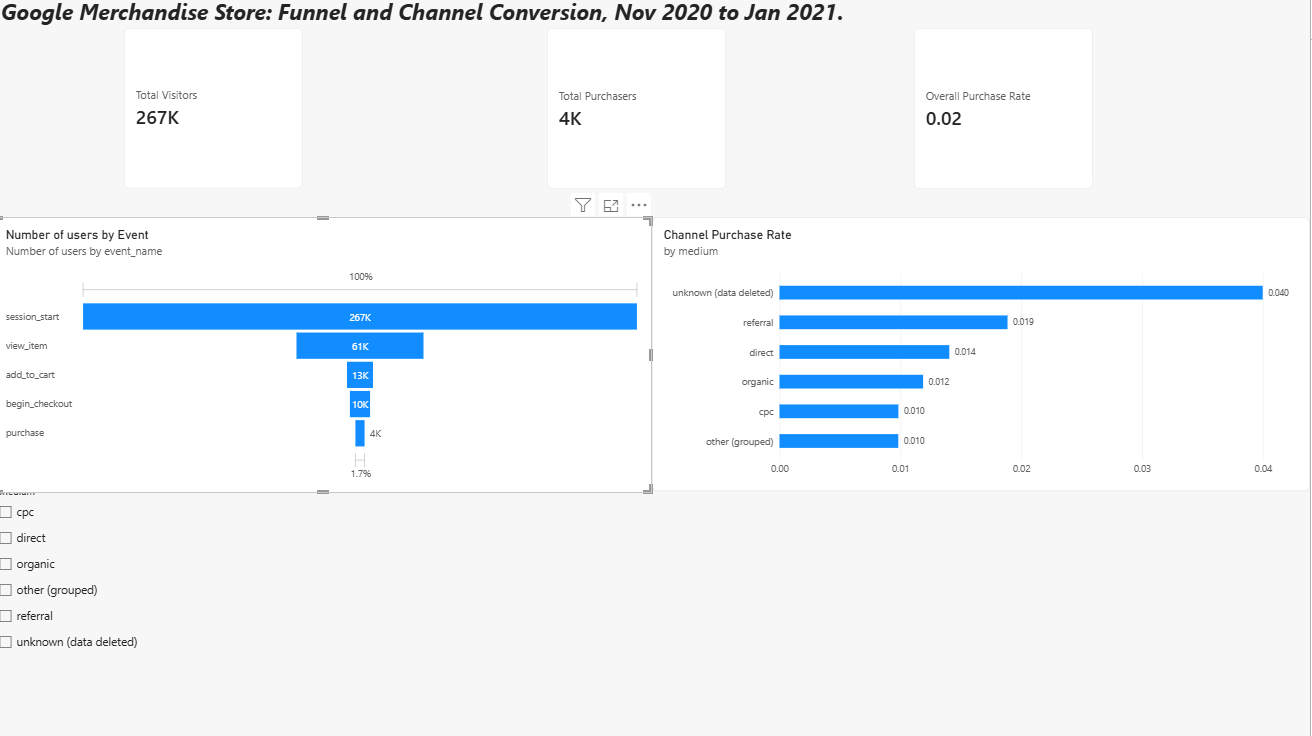

What the dashboard file says about the page in this screenshot:
{"tool":"powerbi","page":{"name":"Page 1","canvas":[1920,1080],"ordinal":0},"visuals":[{"type":"textbox","box":[10.2,0,1332,46.7],"z":0},{"type":"cardVisual","fields":{"Data":["funnel_clean.Total Visitors"]},"box":[189.7,46.7,261.2,234.9],"z":1},{"type":"cardVisual","fields":{"Data":["funnel_clean.Total Purchasers"]},"box":[806.8,46.7,261,235],"z":2},{"type":"cardVisual","fields":{"Data":["funnel_clean.Overall Purchase Rate"]},"box":[1342.2,46.7,261,235],"z":3},{"type":"funnel","title":"Number of users by Event","fields":{"Category":["funnel_clean.event_name"],"Y":["Sum(funnel_clean.users)"]},"box":[0,322.4,960,402.7],"z":4},{"type":"clusteredBarChart","fields":{"Category":["channels_clean.medium"],"Y":["channels_clean.Channel Purchase Rate"]},"box":[960,322.4,960,399.8],"z":5},{"type":"slicer","fields":{"Values":["channels_clean.medium"]},"box":[0,714.9,1920,364.7],"z":6}]}

Visuals, with their boxes in screenshot pixels (x1, y1, x2, y2), scaled from the page's 1920x1080 canvas onto the 1312x736 screenshot:
textbox: [left=7, top=0, right=917, bottom=32]
cardVisual - funnel_clean.Total Visitors: [left=130, top=32, right=308, bottom=192]
cardVisual - funnel_clean.Total Purchasers: [left=551, top=32, right=730, bottom=192]
cardVisual - funnel_clean.Overall Purchase Rate: [left=917, top=32, right=1096, bottom=192]
"Number of users by Event" funnel: [left=0, top=220, right=656, bottom=494]
clusteredBarChart - channels_clean.medium x channels_clean.Channel Purchase Rate: [left=656, top=220, right=1311, bottom=492]
slicer - channels_clean.medium: [left=0, top=487, right=1311, bottom=735]
